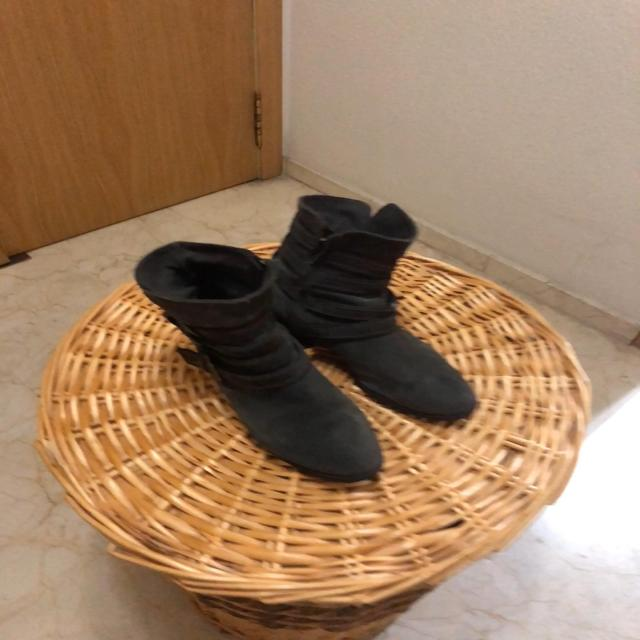shoe: (145, 243, 387, 486), (279, 201, 480, 428)
